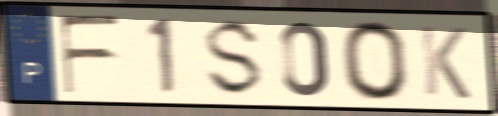0: (277, 19, 330, 100)
1: (143, 15, 178, 98)
F: (56, 13, 123, 97)
K: (417, 22, 474, 102)
O: (337, 18, 413, 104)
S: (202, 16, 267, 100)
